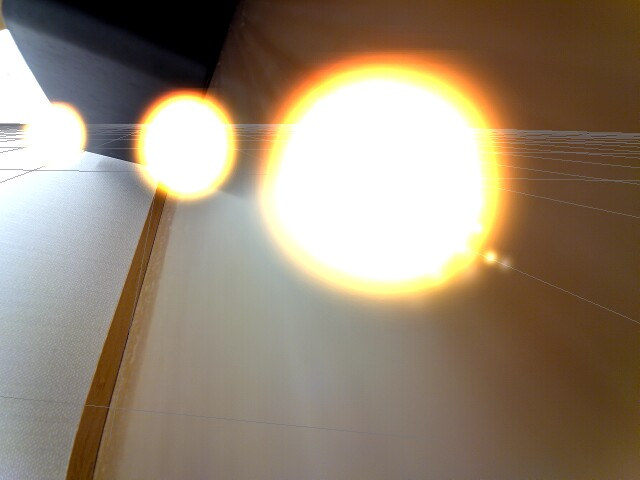firebig: (254, 52, 529, 306)
